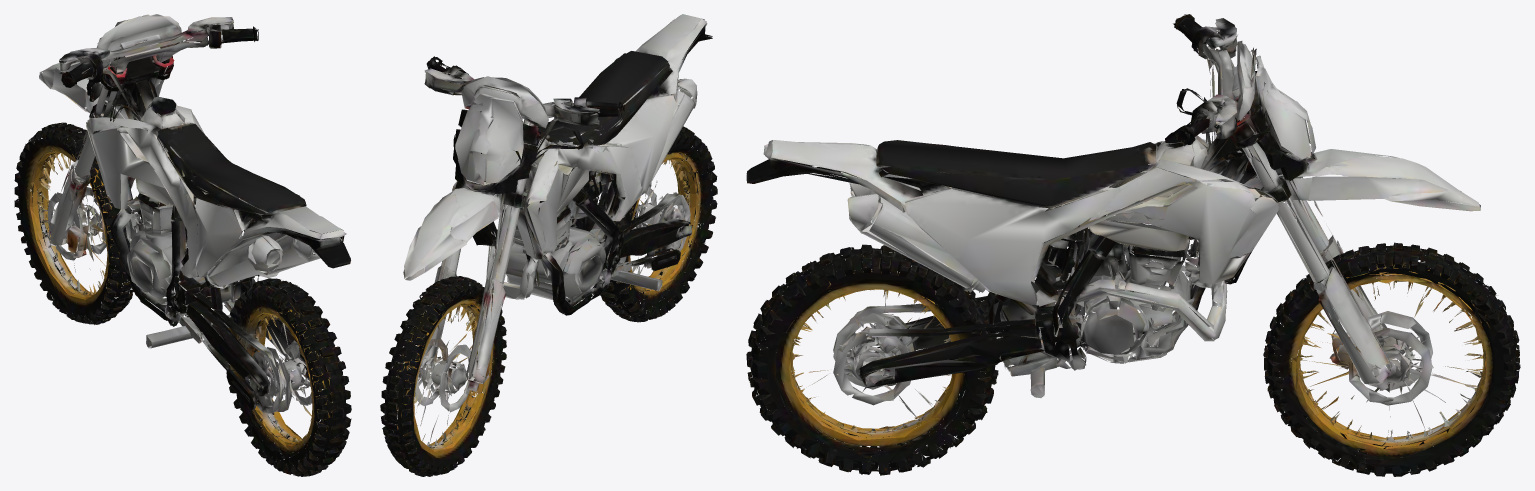
File: bike_enduro_lo.glb
3 views of the same model, side by side, from view 1: azimuth 30°, elevation 25°; view 2: azimuth 150°, elevation 25°; view 3: azimuth 270°, elevation 25° (orthographic). The views are drawn at different scales.
Visible parts, largest first — view 1: bike_body, wheel_r, wheel_f; view 2: bike_body, wheel_f, wheel_r; view 3: bike_body, wheel_r, wheel_f.
Part boxes in pixels (<box>): bike_body: <box>39,14,350,416</box>; wheel_r: <box>202,278,351,476</box>; wheel_f: <box>14,122,134,324</box>; bike_body: <box>403,14,712,442</box>; wheel_f: <box>380,269,506,476</box>; wheel_r: <box>592,126,717,322</box>; bike_body: <box>746,14,1480,431</box>; wheel_r: <box>746,244,1005,475</box>; wheel_f: <box>1263,240,1520,476</box>.
Size of the model in its own units: 0.9056 by 1.53 by 2.52.
Materials: 1 (1 with a texture image).
